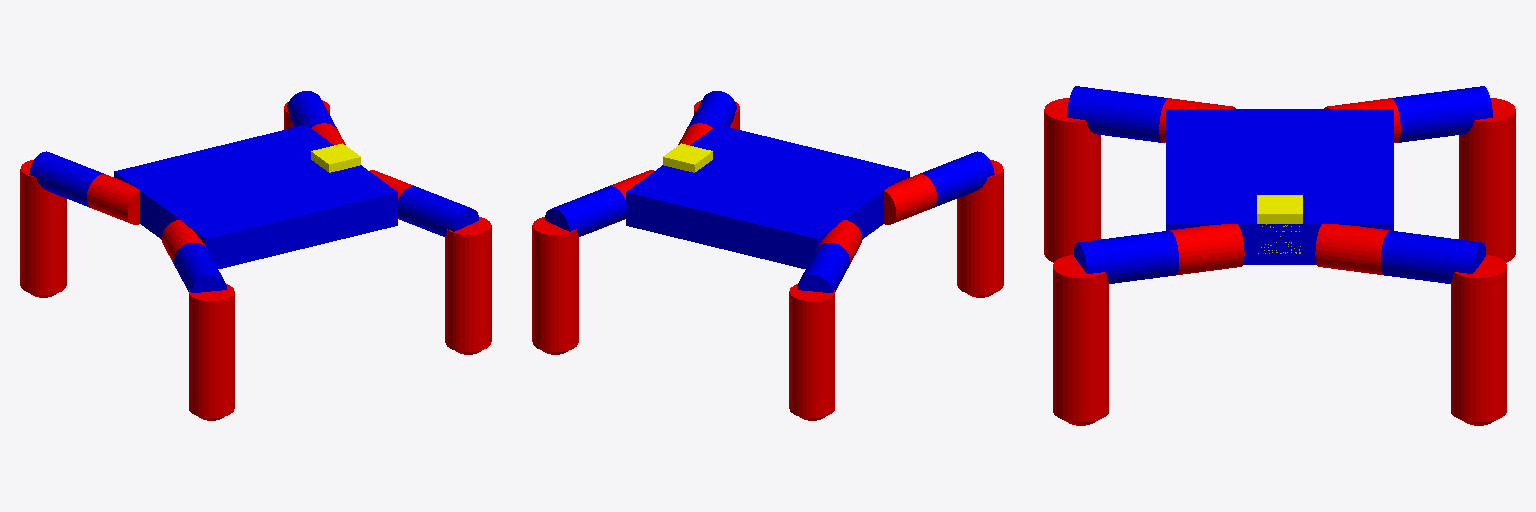
robot.urdf — pexod:
<?xml version="1.0" ?>
<!-- =================================================================================== -->
<!-- |    This document was autogenerated by xacro from urdf/pexod.xacro               | -->
<!-- |    EDITING THIS FILE BY HAND IS NOT RECOMMENDED                                 | -->
<!-- =================================================================================== -->
<robot name="pexod" xmlns:xacro="http://www.ros.org/wiki/xacro">
  <!-- <xacro:include filename="$(find pexod_description)/urdf/pexod_control.xacro" /> -->
  <!-- MATERIALS -->
  <material name="Blue">
    <color rgba="0 0 1 1"/>
  </material>
  <material name="Red">
    <color rgba="1 0 0 1"/>
  </material>
  <material name="Green">
    <color rgba="0 1 0 1"/>
  </material>
  <material name="Yellow">
    <color rgba="1 1 0 1"/>
  </material>
  <material name="LightGrey">
    <color rgba="0.6 0.6 0.6 1.0"/>
  </material>
  <!-- END OF MATERIALS -->
  <!-- XACRO MACROS FOR VISUALS AND COLLISIONS -->
  <!-- END OF XACRO MACROS -->
  <!-- TORSO -->
  <link name="base_link">
    <visual>
      <origin rpy="0 0 0" xyz="0 0 0"/>
      <geometry>
        <box size="0.24 0.2 0.04"/>
      </geometry>
      <material name="Blue"/>
    </visual>
    <collision>
      <origin rpy="0 0 0" xyz="0 0 0"/>
      <geometry>
        <box size="0.24 0.2 0.04"/>
      </geometry>
    </collision>
    <inertial>
      <!-- CENTER OF MASS -->
      <origin rpy="0 0 0" xyz="0 0 0"/>
      <mass value="1.031"/>
      <!-- box inertia: 1/12*m(y^2+z^2), ... -->
      <inertia ixx="0.00357413333333" ixy="0" ixz="0" iyy="0.00508626666667" iyz="0" izz="0.00838546666667"/>
    </inertial>
  </link>

  <link name="head">
    <visual>
      <origin rpy="0 0 0" xyz="0 0 0"/>
      <geometry>
        <box size="0.04 0.04 0.04"/>
      </geometry>
      <material name="Yellow"/>
    </visual>
    <inertial>
      <!-- CENTER OF MASS -->
      <origin rpy="0 0 0" xyz="0.00 0.00 0"/>
      <mass value="0.00"/>
      <!-- box inertia: 1/12*m(y^2+z^2), ... -->
      <inertia ixx="0" ixy="0" ixz="0" iyy="0" iyz="0" izz="0"/>
    </inertial>
  </link>

  <joint name="body_head" type="fixed">
    <parent link="base_link"/>
    <child link="head"/>
    <origin rpy="0 0 0" xyz="0.1 0.0 0.01"/>
    <!-- <axis xyz="0 0 1"/> -->
    <!-- </xacro:if> -->
    <!-- <dynamics damping="0.0"/> -->
  </joint>

  <!-- XACRO MACRO FOR LEGS LINKS/JOINTS -->
  <!-- END OF LEG LINKS/JOINTS -->
  <joint name="body_leg_2" type="revolute">
    <parent link="base_link"/>
    <child link="leg_2_1"/>
    <limit effort="30.0" lower="-1.57079632679" upper="1.57079632679" velocity="7.0"/>
    <origin rpy="0 0 -0.3" xyz="0.11 0.04 0"/>
    <!-- <xacro:if value="${index == 5 or index == 4 or index == 3}">
                <axis xyz="0 0 1"/>
            </xacro:if>
            <xacro:if value="${index == 2 or index == 1 or index == 0}"> -->
    <axis xyz="0 0 1"/>
    <!-- </xacro:if> -->
    <dynamics damping="0.0"/>
  </joint>
  <link name="leg_2_1">
    <visual>
      <origin rpy="1.57079632679 0 0" xyz="0.01 0.03 0"/>
      <geometry>
        <cylinder length="0.06" radius="0.02"/>
      </geometry>
      <material name="Red"/>
    </visual>
    <collision>
      <origin rpy="1.57079632679 0 0" xyz="0.01 0.03 0"/>
      <geometry>
        <box size="0.02 0.02 0.06"/>
      </geometry>
    </collision>
    <inertial>
      <!-- CENTER OF MASS -->
      <origin rpy="1.57079632679 0 0" xyz="0.01 0.03 0"/>
      <mass value="0.02"/>
      <!-- box inertia: 1/12*m(y^2+z^2), ... -->
      <inertia ixx="6.66666666667e-06" ixy="0" ixz="0" iyy="6.66666666667e-06" iyz="0" izz="1.33333333333e-06"/>
    </inertial>
  </link>
  <joint name="leg_2_1_2" type="revolute">
    <parent link="leg_2_1"/>
    <child link="leg_2_2"/>
    <limit effort="30.0" lower="-0.78539816339" upper="0.78539816339" velocity="7.0"/>
    <origin rpy="0 0 0" xyz="0 0.06 0"/>
    <axis xyz="1 0 0"/>
    <dynamics damping="0.0"/>
  </joint>
  <link name="leg_2_2">
    <visual>
      <origin rpy="1.57079632679 0 0" xyz="0.01 0.0425 0"/>
      <geometry>
        <cylinder length="0.085" radius="0.02"/>
      </geometry>
      <material name="Blue"/>
    </visual>
    <collision>
      <origin rpy="1.57079632679 0 0" xyz="0.01 0.0425 0"/>
      <geometry>
        <box size="0.02 0.02 0.085"/>
      </geometry>
    </collision>
    <inertial>
      <!-- CENTER OF MASS -->
      <origin rpy="1.57079632679 0 0" xyz="0.01 0.0425 0"/>
      <mass value="0.184"/>
      <!-- box inertia: 1/12*m(y^2+z^2), ... -->
      <inertia ixx="0.000116916666667" ixy="0" ixz="0" iyy="0.000116916666667" iyz="0" izz="1.22666666667e-05"/>
    </inertial>
  </link>
  <joint name="leg_2_2_3" type="revolute">
    <parent link="leg_2_2"/>
    <child link="leg_2_3"/>
    <limit effort="30.0" lower="-0.78539816339" upper="0.78539816339" velocity="7.0"/>
    <origin rpy="-1.57079632679 0 0" xyz="0 0.085 0"/>
    <axis xyz="-1 0 0"/>
    <dynamics damping="0.0"/>
  </joint>
  <link name="leg_2_3">
    <visual>
      <origin rpy="1.57079632679 0 0" xyz="0.0125 0.07 0"/>
      <geometry>
        <cylinder length="0.14" radius="0.025"/>
      </geometry>
      <material name="Red"/>
    </visual>
    <visual>
      <origin rpy="1.57079632679 0 0" xyz="0.0125 0.1275 0"/>
      <geometry>
        <sphere radius="0.025"/>
      </geometry>
      <material name="Red"/>
    </visual>
    <collision>
      <origin rpy="1.57079632679 0 0" xyz="0.0125 0.07 0"/>
      <geometry>
        <box size="0.025 0.025 0.14"/>
      </geometry>
    </collision>
    <collision>
      <origin rpy="1.57079632679 0 0" xyz="0.0125 0.1275 0"/>
      <geometry>
        <sphere radius="0.025"/>
      </geometry>
      <material name="Red"/>
    </collision>
    <inertial>
      <!-- CENTER OF MASS -->
      <origin rpy="1.57079632679 0 0" xyz="0.0125 0.07 0"/>
      <mass value="0.04"/>
      <!-- box inertia: 1/12*m(y^2+z^2), ... -->
      <inertia ixx="6.74166666667e-05" ixy="0" ixz="0" iyy="6.74166666667e-05" iyz="0" izz="4.16666666667e-06"/>
    </inertial>
  </link>
  <joint name="body_leg_3" type="revolute">
    <parent link="base_link"/>
    <child link="leg_3_1"/>
    <limit effort="30.0" lower="-1.57079632679" upper="1.57079632679" velocity="7.0"/>
    <origin rpy="0 0 0.3" xyz="0.11 -0.04 0"/>
    <!-- <xacro:if value="${index == 5 or index == 4 or index == 3}">
                <axis xyz="0 0 1"/>
            </xacro:if>
            <xacro:if value="${index == 2 or index == 1 or index == 0}"> -->
    <axis xyz="0 0 1"/>
    <!-- </xacro:if> -->
    <dynamics damping="0.0"/>
  </joint>
  <link name="leg_3_1">
    <visual>
      <origin rpy="1.57079632679 0 0" xyz="0.01 -0.03 0"/>
      <geometry>
        <cylinder length="0.06" radius="0.02"/>
      </geometry>
      <material name="Red"/>
    </visual>
    <collision>
      <origin rpy="1.57079632679 0 0" xyz="0.01 -0.03 0"/>
      <geometry>
        <box size="0.02 0.02 0.06"/>
      </geometry>
    </collision>
    <inertial>
      <!-- CENTER OF MASS -->
      <origin rpy="1.57079632679 0 0" xyz="0.01 -0.03 0"/>
      <mass value="0.02"/>
      <!-- box inertia: 1/12*m(y^2+z^2), ... -->
      <inertia ixx="6.66666666667e-06" ixy="0" ixz="0" iyy="6.66666666667e-06" iyz="0" izz="1.33333333333e-06"/>
    </inertial>
  </link>
  <joint name="leg_3_1_2" type="revolute">
    <parent link="leg_3_1"/>
    <child link="leg_3_2"/>
    <limit effort="30.0" lower="-0.78539816339" upper="0.78539816339" velocity="7.0"/>
    <origin rpy="0 0 0" xyz="0 -0.06 0"/>
    <axis xyz="-1 0 0"/>
    <dynamics damping="0.0"/>
  </joint>
  <link name="leg_3_2">
    <visual>
      <origin rpy="1.57079632679 0 0" xyz="0.01 -0.0425 0"/>
      <geometry>
        <cylinder length="0.085" radius="0.02"/>
      </geometry>
      <material name="Blue"/>
    </visual>
    <collision>
      <origin rpy="1.57079632679 0 0" xyz="0.01 -0.0425 0"/>
      <geometry>
        <box size="0.02 0.02 0.085"/>
      </geometry>
    </collision>
    <inertial>
      <!-- CENTER OF MASS -->
      <origin rpy="1.57079632679 0 0" xyz="0.01 -0.0425 0"/>
      <mass value="0.184"/>
      <!-- box inertia: 1/12*m(y^2+z^2), ... -->
      <inertia ixx="0.000116916666667" ixy="0" ixz="0" iyy="0.000116916666667" iyz="0" izz="1.22666666667e-05"/>
    </inertial>
  </link>
  <joint name="leg_3_2_3" type="revolute">
    <parent link="leg_3_2"/>
    <child link="leg_3_3"/>
    <limit effort="30.0" lower="-0.78539816339" upper="0.78539816339" velocity="7.0"/>
    <origin rpy="1.57079632679 0 0" xyz="0 -0.085 0"/>
    <axis xyz="1 0 0"/>
    <dynamics damping="0.0"/>
  </joint>
  <link name="leg_3_3">
    <visual>
      <origin rpy="1.57079632679 0 0" xyz="0.0125 -0.07 0"/>
      <geometry>
        <cylinder length="0.14" radius="0.025"/>
      </geometry>
      <material name="Red"/>
    </visual>
    <visual>
      <origin rpy="1.57079632679 0 0" xyz="0.0125 -0.1275 0"/>
      <geometry>
        <sphere radius="0.025"/>
      </geometry>
      <material name="Red"/>
    </visual>
    <collision>
      <origin rpy="1.57079632679 0 0" xyz="0.0125 -0.07 0"/>
      <geometry>
        <box size="0.025 0.025 0.14"/>
      </geometry>
    </collision>
    <collision>
      <origin rpy="1.57079632679 0 0" xyz="0.0125 -0.1275 0"/>
      <geometry>
        <sphere radius="0.025"/>
      </geometry>
      <material name="Red"/>
    </collision>
    <inertial>
      <!-- CENTER OF MASS -->
      <origin rpy="1.57079632679 0 0" xyz="0.0125 -0.07 0"/>
      <mass value="0.04"/>
      <!-- box inertia: 1/12*m(y^2+z^2), ... -->
      <inertia ixx="6.74166666667e-05" ixy="0" ixz="0" iyy="6.74166666667e-05" iyz="0" izz="4.16666666667e-06"/>
    </inertial>
  </link>
  <joint name="body_leg_0" type="revolute">
    <parent link="base_link"/>
    <child link="leg_0_1"/>
    <limit effort="30.0" lower="-1.57079632679" upper="1.57079632679" velocity="7.0"/>
    <origin rpy="0 0 0.3" xyz="-0.13 0.04 0"/>
    <!-- <xacro:if value="${index == 5 or index == 4 or index == 3}">
                <axis xyz="0 0 1"/>
            </xacro:if>
            <xacro:if value="${index == 2 or index == 1 or index == 0}"> -->
    <axis xyz="0 0 1"/>
    <!-- </xacro:if> -->
    <dynamics damping="0.0"/>
  </joint>
  <link name="leg_0_1">
    <visual>
      <origin rpy="1.57079632679 0 0" xyz="0.01 0.03 0"/>
      <geometry>
        <cylinder length="0.06" radius="0.02"/>
      </geometry>
      <material name="Red"/>
    </visual>
    <collision>
      <origin rpy="1.57079632679 0 0" xyz="0.01 0.03 0"/>
      <geometry>
        <box size="0.02 0.02 0.06"/>
      </geometry>
    </collision>
    <inertial>
      <!-- CENTER OF MASS -->
      <origin rpy="1.57079632679 0 0" xyz="0.01 0.03 0"/>
      <mass value="0.02"/>
      <!-- box inertia: 1/12*m(y^2+z^2), ... -->
      <inertia ixx="6.66666666667e-06" ixy="0" ixz="0" iyy="6.66666666667e-06" iyz="0" izz="1.33333333333e-06"/>
    </inertial>
  </link>
  <joint name="leg_0_1_2" type="revolute">
    <parent link="leg_0_1"/>
    <child link="leg_0_2"/>
    <limit effort="30.0" lower="-0.78539816339" upper="0.78539816339" velocity="7.0"/>
    <origin rpy="0 0 0" xyz="0 0.06 0"/>
    <axis xyz="1 0 0"/>
    <dynamics damping="0.0"/>
  </joint>
  <link name="leg_0_2">
    <visual>
      <origin rpy="1.57079632679 0 0" xyz="0.01 0.0425 0"/>
      <geometry>
        <cylinder length="0.085" radius="0.02"/>
      </geometry>
      <material name="Blue"/>
    </visual>
    <collision>
      <origin rpy="1.57079632679 0 0" xyz="0.01 0.0425 0"/>
      <geometry>
        <box size="0.02 0.02 0.085"/>
      </geometry>
    </collision>
    <inertial>
      <!-- CENTER OF MASS -->
      <origin rpy="1.57079632679 0 0" xyz="0.01 0.0425 0"/>
      <mass value="0.184"/>
      <!-- box inertia: 1/12*m(y^2+z^2), ... -->
      <inertia ixx="0.000116916666667" ixy="0" ixz="0" iyy="0.000116916666667" iyz="0" izz="1.22666666667e-05"/>
    </inertial>
  </link>
  <joint name="leg_0_2_3" type="revolute">
    <parent link="leg_0_2"/>
    <child link="leg_0_3"/>
    <limit effort="30.0" lower="-0.78539816339" upper="0.78539816339" velocity="7.0"/>
    <origin rpy="-1.57079632679 0 0" xyz="0 0.085 0"/>
    <axis xyz="-1 0 0"/>
    <dynamics damping="0.0"/>
  </joint>
  <link name="leg_0_3">
    <visual>
      <origin rpy="1.57079632679 0 0" xyz="0.0125 0.07 0"/>
      <geometry>
        <cylinder length="0.14" radius="0.025"/>
      </geometry>
      <material name="Red"/>
    </visual>
    <visual>
      <origin rpy="1.57079632679 0 0" xyz="0.0125 0.1275 0"/>
      <geometry>
        <sphere radius="0.025"/>
      </geometry>
      <material name="Red"/>
    </visual>
    <collision>
      <origin rpy="1.57079632679 0 0" xyz="0.0125 0.07 0"/>
      <geometry>
        <box size="0.025 0.025 0.14"/>
      </geometry>
    </collision>
    <collision>
      <origin rpy="1.57079632679 0 0" xyz="0.0125 0.1275 0"/>
      <geometry>
        <sphere radius="0.025"/>
      </geometry>
      <material name="Red"/>
    </collision>
    <inertial>
      <!-- CENTER OF MASS -->
      <origin rpy="1.57079632679 0 0" xyz="0.0125 0.07 0"/>
      <mass value="0.04"/>
      <!-- box inertia: 1/12*m(y^2+z^2), ... -->
      <inertia ixx="6.74166666667e-05" ixy="0" ixz="0" iyy="6.74166666667e-05" iyz="0" izz="4.16666666667e-06"/>
    </inertial>
  </link>
  <joint name="body_leg_5" type="revolute">
    <parent link="base_link"/>
    <child link="leg_5_1"/>
    <limit effort="30.0" lower="-1.57079632679" upper="1.57079632679" velocity="7.0"/>
    <origin rpy="0 0 -0.3" xyz="-0.13 -0.04 0"/>
    <!-- <xacro:if value="${index == 5 or index == 4 or index == 3}">
                <axis xyz="0 0 1"/>
            </xacro:if>
            <xacro:if value="${index == 2 or index == 1 or index == 0}"> -->
    <axis xyz="0 0 1"/>
    <!-- </xacro:if> -->
    <dynamics damping="0.0"/>
  </joint>
  <link name="leg_5_1">
    <visual>
      <origin rpy="1.57079632679 0 0" xyz="0.01 -0.03 0"/>
      <geometry>
        <cylinder length="0.06" radius="0.02"/>
      </geometry>
      <material name="Red"/>
    </visual>
    <collision>
      <origin rpy="1.57079632679 0 0" xyz="0.01 -0.03 0"/>
      <geometry>
        <box size="0.02 0.02 0.06"/>
      </geometry>
    </collision>
    <inertial>
      <!-- CENTER OF MASS -->
      <origin rpy="1.57079632679 0 0" xyz="0.01 -0.03 0"/>
      <mass value="0.02"/>
      <!-- box inertia: 1/12*m(y^2+z^2), ... -->
      <inertia ixx="6.66666666667e-06" ixy="0" ixz="0" iyy="6.66666666667e-06" iyz="0" izz="1.33333333333e-06"/>
    </inertial>
  </link>
  <joint name="leg_5_1_2" type="revolute">
    <parent link="leg_5_1"/>
    <child link="leg_5_2"/>
    <limit effort="30.0" lower="-0.78539816339" upper="0.78539816339" velocity="7.0"/>
    <origin rpy="0 0 0" xyz="0 -0.06 0"/>
    <axis xyz="-1 0 0"/>
    <dynamics damping="0.0"/>
  </joint>
  <link name="leg_5_2">
    <visual>
      <origin rpy="1.57079632679 0 0" xyz="0.01 -0.0425 0"/>
      <geometry>
        <cylinder length="0.085" radius="0.02"/>
      </geometry>
      <material name="Blue"/>
    </visual>
    <collision>
      <origin rpy="1.57079632679 0 0" xyz="0.01 -0.0425 0"/>
      <geometry>
        <box size="0.02 0.02 0.085"/>
      </geometry>
    </collision>
    <inertial>
      <!-- CENTER OF MASS -->
      <origin rpy="1.57079632679 0 0" xyz="0.01 -0.0425 0"/>
      <mass value="0.184"/>
      <!-- box inertia: 1/12*m(y^2+z^2), ... -->
      <inertia ixx="0.000116916666667" ixy="0" ixz="0" iyy="0.000116916666667" iyz="0" izz="1.22666666667e-05"/>
    </inertial>
  </link>
  <joint name="leg_5_2_3" type="revolute">
    <parent link="leg_5_2"/>
    <child link="leg_5_3"/>
    <limit effort="30.0" lower="-0.78539816339" upper="0.78539816339" velocity="7.0"/>
    <origin rpy="1.57079632679 0 0" xyz="0 -0.085 0"/>
    <axis xyz="1 0 0"/>
    <dynamics damping="0.0"/>
  </joint>
  <link name="leg_5_3">
    <visual>
      <origin rpy="1.57079632679 0 0" xyz="0.0125 -0.07 0"/>
      <geometry>
        <cylinder length="0.14" radius="0.025"/>
      </geometry>
      <material name="Red"/>
    </visual>
    <visual>
      <origin rpy="1.57079632679 0 0" xyz="0.0125 -0.1275 0"/>
      <geometry>
        <sphere radius="0.025"/>
      </geometry>
      <material name="Red"/>
    </visual>
    <collision>
      <origin rpy="1.57079632679 0 0" xyz="0.0125 -0.07 0"/>
      <geometry>
        <box size="0.025 0.025 0.14"/>
      </geometry>
    </collision>
    <collision>
      <origin rpy="1.57079632679 0 0" xyz="0.0125 -0.1275 0"/>
      <geometry>
        <sphere radius="0.025"/>
      </geometry>
      <material name="Red"/>
    </collision>
    <inertial>
      <!-- CENTER OF MASS -->
      <origin rpy="1.57079632679 0 0" xyz="0.0125 -0.07 0"/>
      <mass value="0.04"/>
      <!-- box inertia: 1/12*m(y^2+z^2), ... -->
      <inertia ixx="6.74166666667e-05" ixy="0" ixz="0" iyy="6.74166666667e-05" iyz="0" izz="4.16666666667e-06"/>
    </inertial>
  </link>
  <!-- END OF LEG LINKS/JOINTS -->
</robot>

--- Render facts (derived) ---
The picture shows the robot from 3 angles, left to right: view 1: azimuth 30°, elevation 25°; view 2: azimuth 150°, elevation 25°; view 3: azimuth 270°, elevation 25°; orthographic projection.
Model pexod with 14 links and 13 joints (12 revolute, 1 fixed), rooted at base_link, posed all joints at 0.
Links seen in each view (by area): view 1: base_link, leg_3_3, leg_5_3, leg_0_3, leg_3_2, leg_0_2, leg_0_1, leg_5_2, leg_2_2, head, leg_5_1; view 2: base_link, leg_2_3, leg_0_3, leg_5_3, leg_2_2, leg_5_2, leg_5_1, leg_0_2, leg_3_2, head, leg_0_1; view 3: base_link, leg_2_3, leg_3_3, leg_0_3, leg_5_3, leg_2_2, leg_3_2, leg_0_2, leg_5_2, leg_2_1, leg_3_1, head (+2 smaller).
Link boxes in pixels (x1=…): base_link: x1=114, y1=125, x2=397, y2=268; leg_3_3: x1=445, y1=217, x2=491, y2=354; leg_5_3: x1=189, y1=284, x2=234, y2=420; leg_0_3: x1=20, y1=160, x2=66, y2=297; leg_3_2: x1=397, y1=186, x2=478, y2=236; leg_0_2: x1=29, y1=151, x2=103, y2=207; leg_0_1: x1=87, y1=174, x2=139, y2=224; leg_5_2: x1=174, y1=243, x2=226, y2=292; leg_2_2: x1=287, y1=91, x2=337, y2=129; head: x1=311, y1=143, x2=360, y2=172; leg_5_1: x1=162, y1=220, x2=207, y2=265; base_link: x1=626, y1=125, x2=909, y2=268; leg_2_3: x1=532, y1=217, x2=578, y2=354; leg_0_3: x1=789, y1=284, x2=834, y2=420; leg_5_3: x1=957, y1=160, x2=1003, y2=297; leg_2_2: x1=545, y1=186, x2=626, y2=236; leg_5_2: x1=920, y1=151, x2=994, y2=207; leg_5_1: x1=884, y1=174, x2=936, y2=224; leg_0_2: x1=797, y1=243, x2=849, y2=292; leg_3_2: x1=686, y1=91, x2=736, y2=129; head: x1=663, y1=143, x2=712, y2=172; leg_0_1: x1=816, y1=220, x2=861, y2=265; base_link: x1=1166, y1=109, x2=1393, y2=264; leg_2_3: x1=1451, y1=255, x2=1506, y2=425; leg_3_3: x1=1053, y1=255, x2=1108, y2=425; leg_0_3: x1=1459, y1=98, x2=1515, y2=262; leg_5_3: x1=1044, y1=98, x2=1100, y2=262; leg_2_2: x1=1381, y1=231, x2=1485, y2=283; leg_3_2: x1=1074, y1=231, x2=1178, y2=283; leg_0_2: x1=1392, y1=86, x2=1492, y2=142; leg_5_2: x1=1067, y1=86, x2=1167, y2=142; leg_2_1: x1=1315, y1=224, x2=1389, y2=275; leg_3_1: x1=1170, y1=224, x2=1244, y2=275; head: x1=1257, y1=195, x2=1302, y2=253.
Bounding box of the posed robot: 0.3755 × 0.4142 × 0.1825 m (x, y, z).
Geometry: primitives only (box / cylinder / sphere), no mesh files.